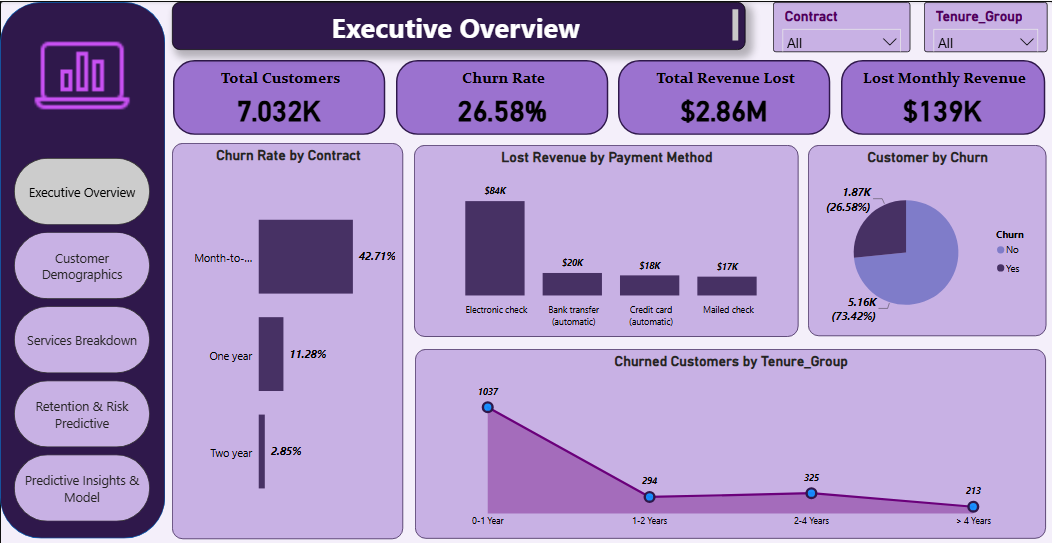

The dashboard page shown, as its layout file describes it:
{"tool":"powerbi","page":{"name":"Executive Overview","canvas":[1450,750],"ordinal":0},"visuals":[{"type":"advanceCardE03760C5AB684758B56AA29F9E6C257B","title":"Total Customers","fields":{"mainMeasure":["_Measures.Total Customers"]},"box":[237.7,80.9,292.3,103.3],"z":0},{"type":"slicer","fields":{"Values":["Data_Transformed.Contract"]},"box":[1063.2,1.3,188.7,68.7],"z":1000},{"type":"slicer","fields":{"Values":["Data_Transformed.TenureGroup"]},"box":[1270.8,1.3,169.8,68.7],"z":2000},{"type":"textbox","box":[237.1,1.7,789.4,66.1],"z":3000},{"type":"pieChart","title":"Customer by Churn","fields":{"Category":["Data_Transformed.Churn"],"Y":["CountNonNull(Data_Transformed.customerID)"]},"box":[1111.7,197.8,327.8,262.8],"z":4000},{"type":"clusteredBarChart","title":"Churn Rate by Contract","fields":{"Category":["Data_Transformed.Contract"],"Y":["_Measures.Churn Rate %"]},"box":[237.1,194.8,318.5,545.4],"z":5000},{"type":"lineChart","fields":{"Category":["Data_Transformed.TenureGroup"],"Y":["_Measures.Churned Customers"]},"box":[571.4,478.3,868.1,261.3],"z":6000},{"type":"columnChart","title":"Lost Revenue by Payment Method","fields":{"Category":["Data_Transformed.PaymentMethod"],"Series":["Data_Transformed.Churn"],"Y":["_Measures.Lost Monthly Revenue"]},"box":[569.2,198.2,528.5,264],"z":7000},{"type":"shape","box":[0,1.5,227.4,738.2],"z":8000},{"type":"advanceCardE03760C5AB684758B56AA29F9E6C257B","title":"Churn Rate ","fields":{"mainMeasure":["_Measures.Churn Rate %"]},"box":[544.1,80.9,292.3,103.3],"z":9000},{"type":"advanceCardE03760C5AB684758B56AA29F9E6C257B","title":"Total Revenue Lost","fields":{"mainMeasure":["_Measures.Total Revenue Lost"]},"box":[850.5,80.9,292.3,103.3],"z":10000},{"type":"advanceCardE03760C5AB684758B56AA29F9E6C257B","title":"Lost Monthly Revenue","fields":{"mainMeasure":["_Measures.Lost Monthly Revenue"]},"box":[1157,81.3,281.2,103.3],"z":11000},{"type":"pageNavigator","box":[18.9,215.6,187.3,502.6],"z":12000},{"type":"image","box":[44.5,35,137.5,136.1],"z":13000}]}

Visuals, with their boxes in screenshot pixels (x1, y1, x2, y2), scaled from the page's 1450x750 canvas onto the 1052x543 screenshot:
"Total Customers" advanceCardE03760C5AB684758B56AA29F9E6C257B: {"left": 172, "top": 59, "right": 385, "bottom": 133}
slicer - Data_Transformed.Contract: {"left": 771, "top": 1, "right": 908, "bottom": 51}
slicer - Data_Transformed.TenureGroup: {"left": 922, "top": 1, "right": 1045, "bottom": 51}
textbox: {"left": 172, "top": 1, "right": 745, "bottom": 49}
"Customer by Churn" pieChart: {"left": 807, "top": 143, "right": 1044, "bottom": 333}
"Churn Rate by Contract" clusteredBarChart: {"left": 172, "top": 141, "right": 403, "bottom": 536}
lineChart - Data_Transformed.TenureGroup x _Measures.Churned Customers: {"left": 415, "top": 346, "right": 1044, "bottom": 535}
"Lost Revenue by Payment Method" columnChart: {"left": 413, "top": 143, "right": 796, "bottom": 335}
shape: {"left": 0, "top": 1, "right": 165, "bottom": 536}
"Churn Rate " advanceCardE03760C5AB684758B56AA29F9E6C257B: {"left": 395, "top": 59, "right": 607, "bottom": 133}
"Total Revenue Lost" advanceCardE03760C5AB684758B56AA29F9E6C257B: {"left": 617, "top": 59, "right": 829, "bottom": 133}
"Lost Monthly Revenue" advanceCardE03760C5AB684758B56AA29F9E6C257B: {"left": 839, "top": 59, "right": 1043, "bottom": 134}
pageNavigator: {"left": 14, "top": 156, "right": 150, "bottom": 520}
image: {"left": 32, "top": 25, "right": 132, "bottom": 124}
